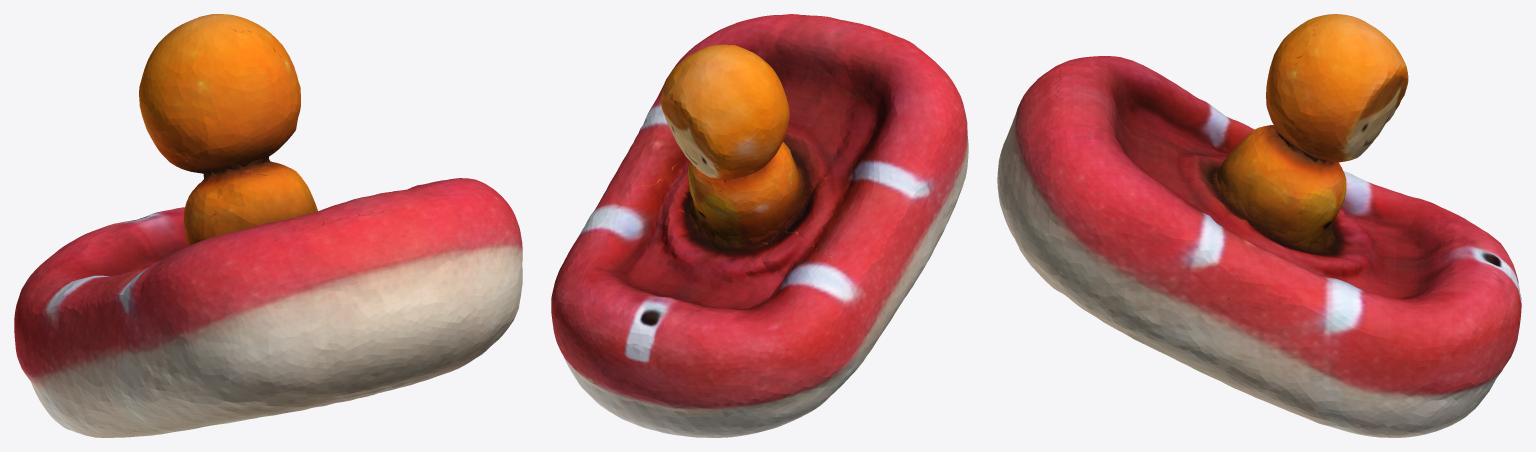
3 renders of one model, left to right at view 1: azimuth 30°, elevation 25°; view 2: azimuth 150°, elevation 25°; view 3: azimuth 270°, elevation 25°, orthographic. The views are drawn at different scales.
Parts seen in each view (by area): view 1: world; view 2: world; view 3: world.
Boxes of the visible parts, box(x1,y1,x2,y2) form: world: box(14, 14, 522, 437); world: box(551, 14, 968, 437); world: box(997, 14, 1521, 437).
Bounding box in the file's own units: 0.6531 × 0.7511 × 0.9366.
1 material, 1 textured.
